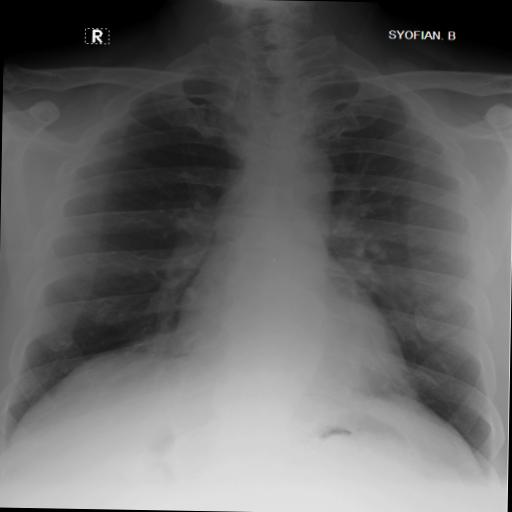kardiomegali: (4, 40, 509, 480)
